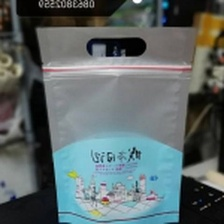snack: (28, 19, 204, 224)
